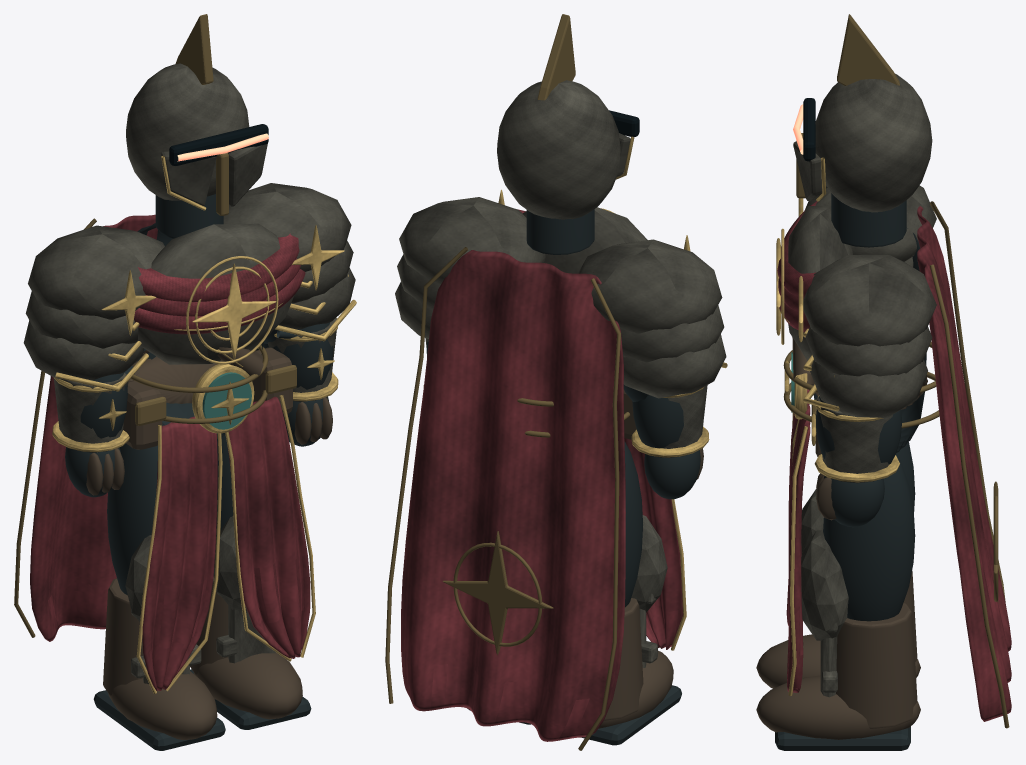
The model's file is sentinel.glb.
The picture shows the model from 3 angles, left to right: view 1: azimuth 30°, elevation 25°; view 2: azimuth 150°, elevation 25°; view 3: azimuth 270°, elevation 25°; orthographic projection.
Parts seen in each view (by area): view 1: Sentinel_Split_tunic, Sentinel_Split_tunic.001, Sentinel_Cloak, Sentinel_Helmet_crown, Sentinel_Pauldron_plate_Left, Sentinel_Breastplate, Sentinel_Pauldron_plate_Right, Sentinel_Boot_Right, Sentinel_Boot_Left, Sentinel_Trouser_Left, Sentinel_Draped_cowl, Sentinel_Pauldron_plate_Left.002 (+51 smaller); view 2: Sentinel_Cloak, Sentinel_Helmet_crown, Sentinel_Pauldron_plate_Left, Sentinel_Pauldron_plate_Right, Sentinel_Split_tunic, Sentinel_Pauldron_plate_Left.002, Sentinel_Pauldron_plate_Left.001, Sentinel_Cloak_star, Sentinel_Boot_shaft_Left, Sentinel_Neck, Sentinel_Cloak_border, Sentinel_Cloak_border.001 (+14 smaller); view 3: Sentinel_Cloak, Sentinel_Helmet_crown, Sentinel_Pauldron_plate_Right, Sentinel_Trouser_Right, Sentinel_Boot_shaft_Right, Sentinel_Boot_Right, Sentinel_Pauldron_plate_Right.002, Sentinel_Knee_plate_Right, Sentinel_Pauldron_plate_Right.001, Sentinel_Breastplate, Sentinel_Bracer_Right, Sentinel_Split_tunic.001 (+23 smaller).
Boxes of the visible parts, box(x1,y1,x2,y2) form: Sentinel_Split_tunic: box(142, 416, 217, 690); Sentinel_Split_tunic.001: box(227, 396, 310, 658); Sentinel_Cloak: box(30, 214, 157, 641); Sentinel_Helmet_crown: box(126, 63, 249, 200); Sentinel_Pauldron_plate_Left: box(28, 225, 164, 319); Sentinel_Breastplate: box(137, 223, 294, 364); Sentinel_Pauldron_plate_Right: box(223, 183, 351, 271); Sentinel_Boot_Right: box(194, 652, 302, 719); Sentinel_Boot_Left: box(108, 671, 217, 740); Sentinel_Trouser_Left: box(107, 422, 164, 595); Sentinel_Draped_cowl: box(138, 233, 299, 301); Sentinel_Pauldron_plate_Left.002: box(23, 320, 143, 379); Sentinel_Cloak: box(401, 250, 625, 741); Sentinel_Helmet_crown: box(497, 80, 620, 219); Sentinel_Pauldron_plate_Left: box(578, 239, 722, 333); Sentinel_Pauldron_plate_Right: box(399, 197, 545, 284); Sentinel_Split_tunic: box(624, 438, 683, 649); Sentinel_Pauldron_plate_Left.002: box(623, 334, 726, 398); Sentinel_Pauldron_plate_Left.001: box(620, 305, 724, 362); Sentinel_Cloak_star: box(442, 531, 553, 654); Sentinel_Boot_shaft_Left: box(604, 598, 643, 720); Sentinel_Neck: box(526, 209, 594, 254); Sentinel_Cloak_border: box(578, 278, 620, 750); Sentinel_Cloak_border.001: box(385, 247, 467, 703); Sentinel_Cloak: box(917, 206, 1011, 721); Sentinel_Helmet_crown: box(815, 73, 932, 212); Sentinel_Pauldron_plate_Right: box(803, 254, 936, 346); Sentinel_Trouser_Right: box(823, 453, 915, 621); Sentinel_Boot_shaft_Right: box(836, 603, 917, 728); Sentinel_Boot_Right: box(756, 675, 920, 739); Sentinel_Pauldron_plate_Right.002: box(810, 359, 927, 417); Sentinel_Knee_plate_Right: box(801, 530, 848, 640); Sentinel_Pauldron_plate_Right.001: box(805, 327, 932, 376); Sentinel_Breastplate: box(788, 206, 852, 360); Sentinel_Bracer_Right: box(816, 396, 892, 483); Sentinel_Split_tunic.001: box(787, 404, 810, 692).
Bounding box in the file's own units: 1.27 × 2.69 × 0.8838.
9 materials, 3 textured.
